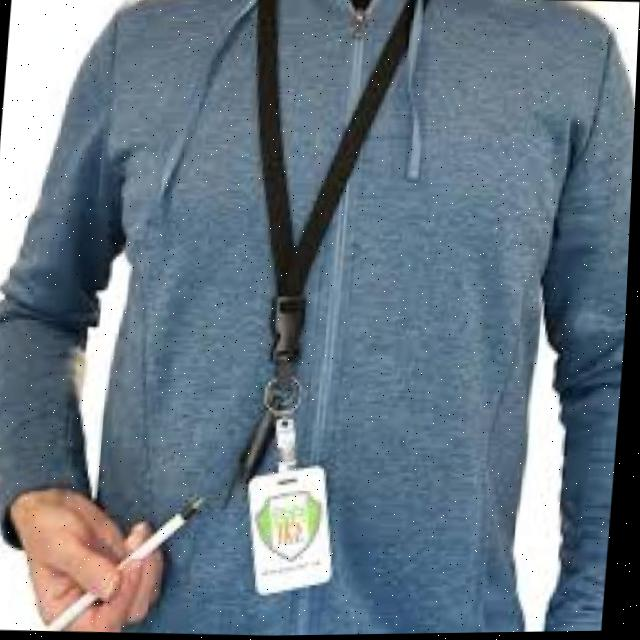id_card: (200, 0, 407, 609)
